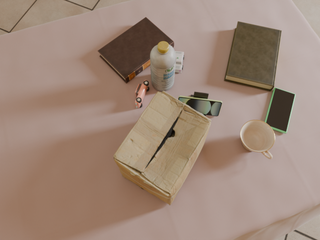book: (98, 17, 174, 83), (224, 21, 282, 91)
bottle: (150, 41, 176, 91)
box: (114, 91, 211, 205)
cup: (240, 120, 275, 159)
phone: (265, 88, 295, 133), (178, 96, 222, 116)
toy_car: (135, 80, 149, 108), (175, 51, 184, 73)
